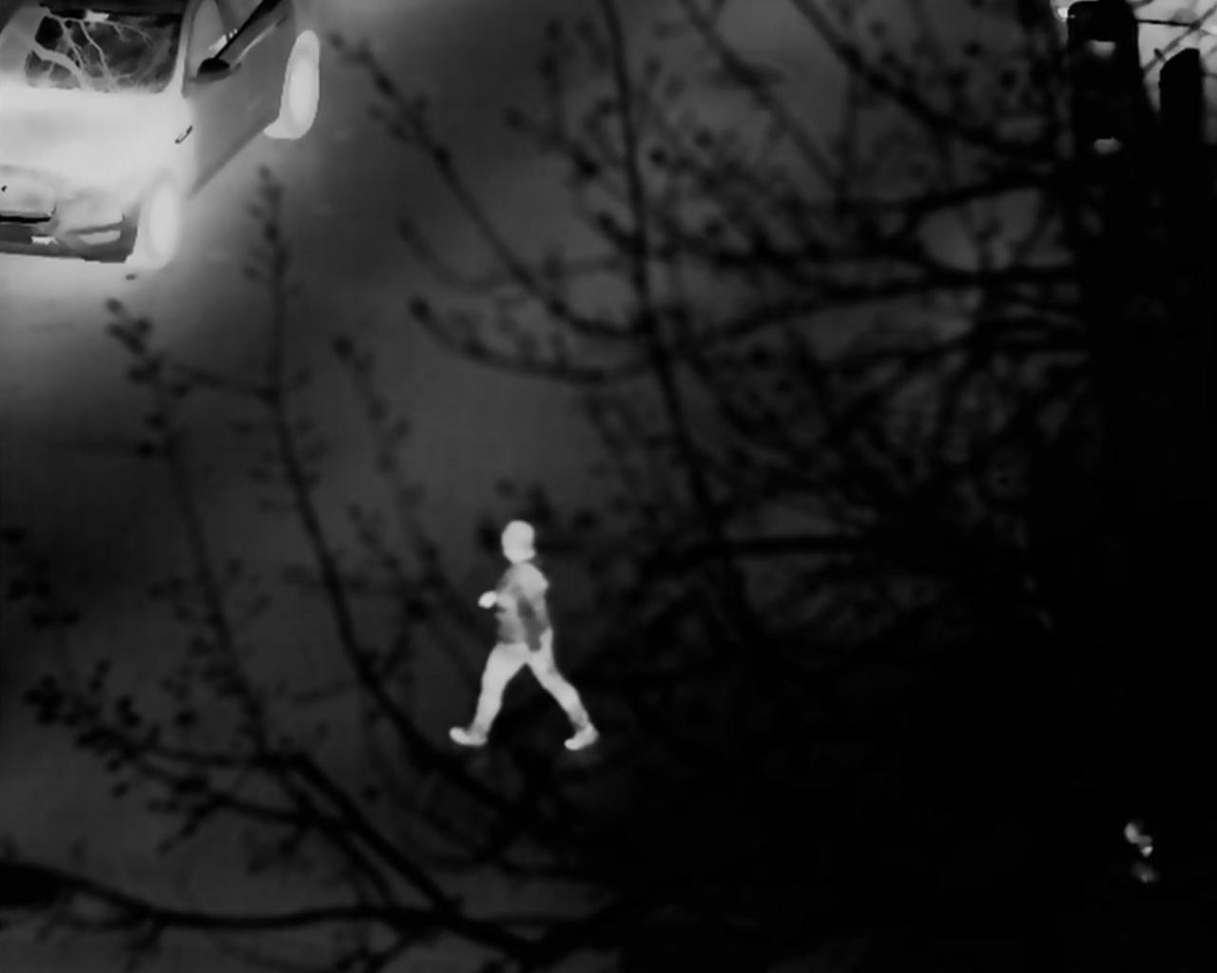person: (448, 518, 599, 734)
